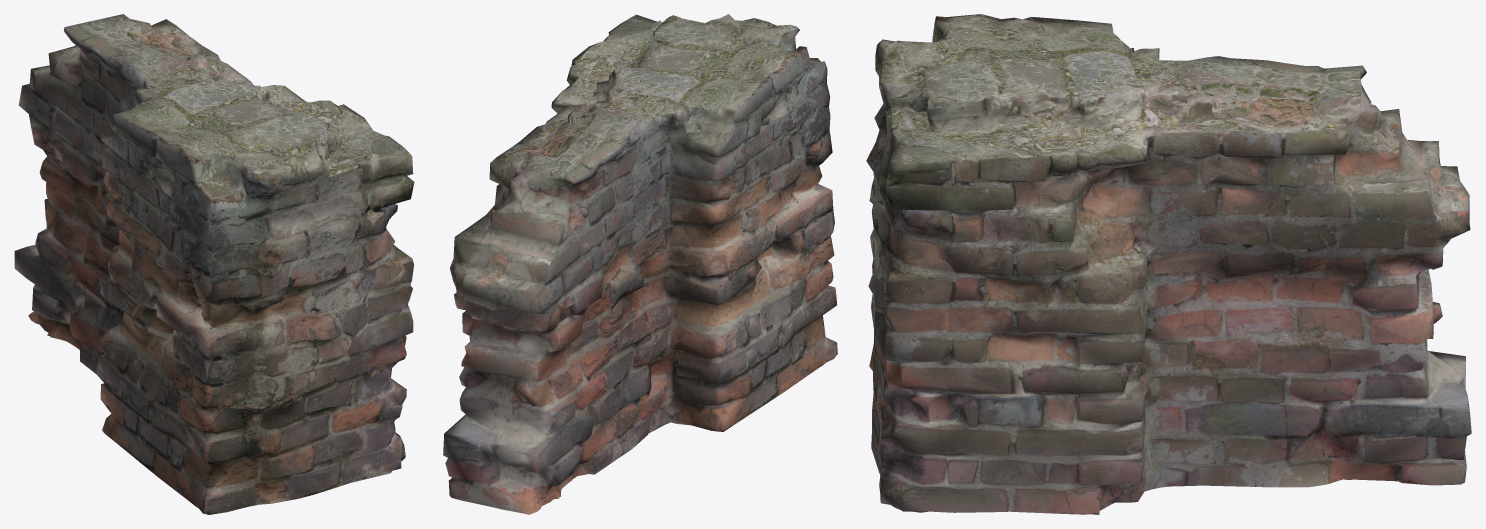
File: SM_Fence_02_05.fbx
The picture shows the model from 3 angles, left to right: view 1: azimuth 30°, elevation 25°; view 2: azimuth 150°, elevation 25°; view 3: azimuth 270°, elevation 25°; orthographic projection. The views are drawn at different scales.
Parts seen in each view (by area): view 1: sm_Fence_02_05_LOD0; view 2: sm_Fence_02_05_LOD0; view 3: sm_Fence_02_05_LOD0.
Part boxes in pixels (bbox=[...]): sm_Fence_02_05_LOD0: bbox=[14, 14, 414, 514]; sm_Fence_02_05_LOD0: bbox=[443, 14, 837, 514]; sm_Fence_02_05_LOD0: bbox=[866, 14, 1471, 514].
Bounding box in the file's own units: 169 × 78.69 × 120.
